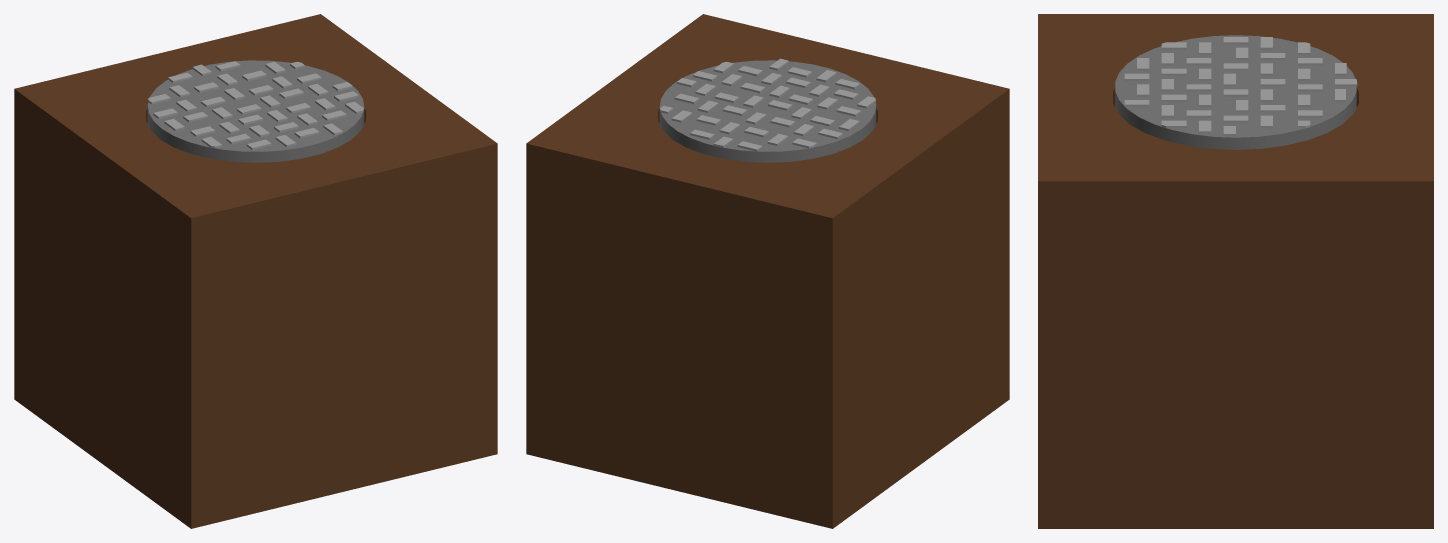
The model's file is hole.obj.
3 views of the same model, side by side, from view 1: azimuth 30°, elevation 25°; view 2: azimuth 150°, elevation 25°; view 3: azimuth 270°, elevation 25° (orthographic). The views are drawn at different scales.
Visible parts, largest first — view 1: Body1:1, Body3:1; view 2: Body1:1, Body3:1; view 3: Body1:1, Body3:1.
Part boxes in pixels (box(x1,y1,x2,y2)): Body1:1: box(14, 14, 497, 528); Body3:1: box(147, 60, 364, 162); Body1:1: box(526, 14, 1009, 528); Body3:1: box(659, 60, 876, 162); Body1:1: box(1038, 14, 1433, 528); Body3:1: box(1115, 35, 1356, 149).
Size of the model in its own units: 1600 by 1610 by 1600.
